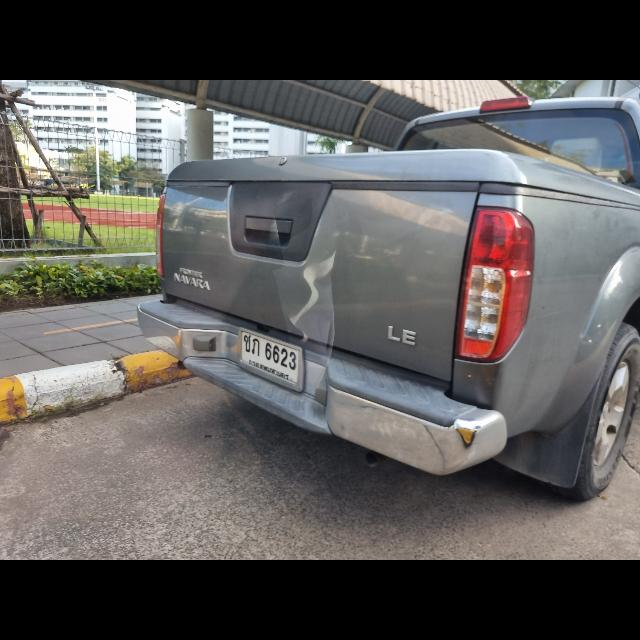licenseplate: (236, 322, 308, 396)
